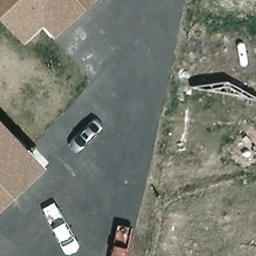car: (66, 118, 105, 156)
pickup: (41, 202, 81, 255)
